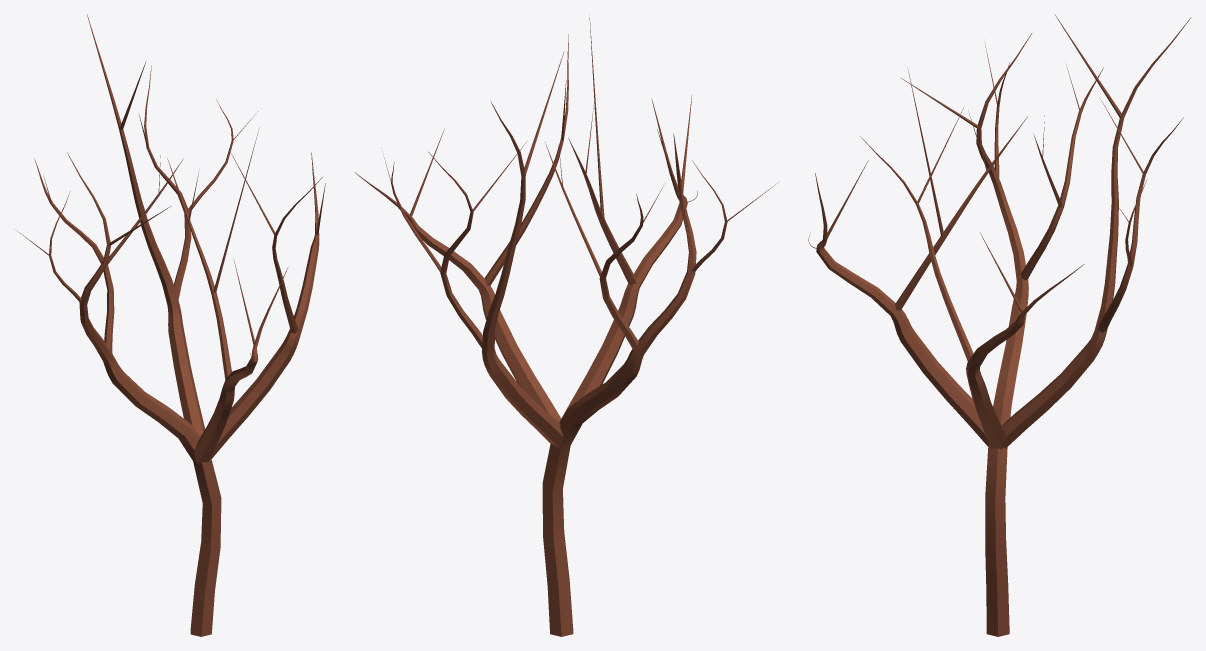
File: Tree_02.fbx
The picture shows the model from 3 angles, left to right: view 1: azimuth 30°, elevation 25°; view 2: azimuth 150°, elevation 25°; view 3: azimuth 270°, elevation 25°; orthographic projection. The views are drawn at different scales.
Visible parts, largest first — view 1: Tree_02; view 2: Tree_02; view 3: Tree_02.
Boxes of the visible parts, box(x1,y1,x2,y2) form: Tree_02: box(17, 14, 325, 636); Tree_02: box(354, 14, 778, 636); Tree_02: box(808, 14, 1191, 636).
Bounding box in the file's own units: 617 × 958 × 552.
